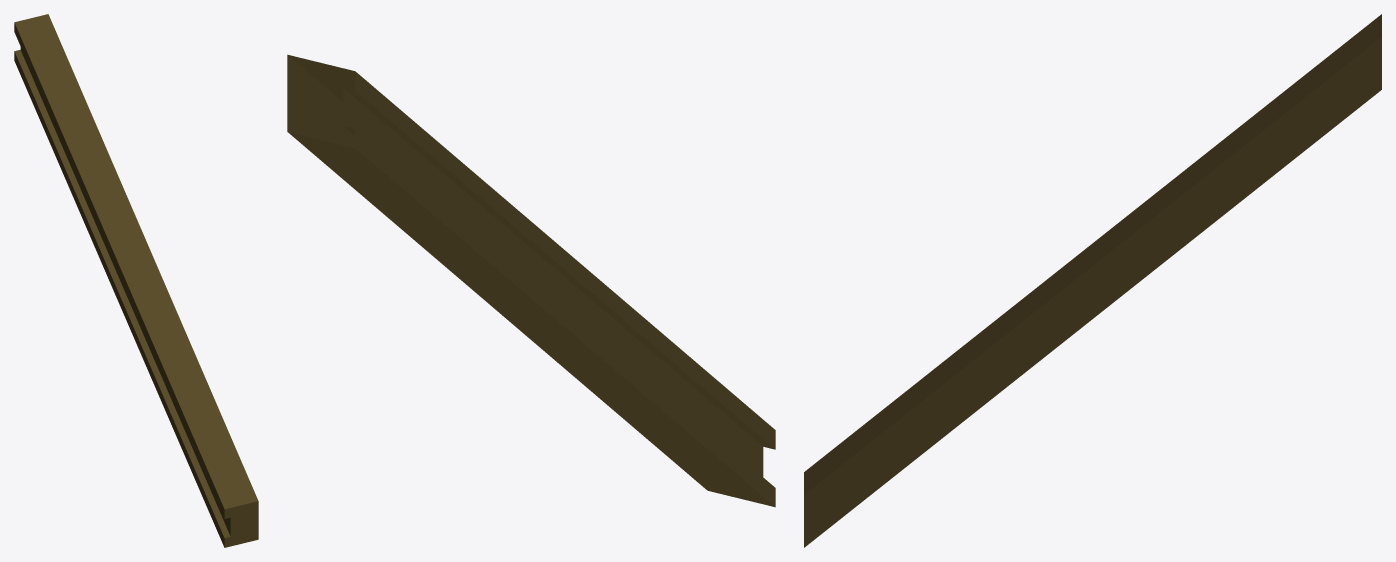
The model's file is WoodHandRail.fbx.
3 renders of one model, left to right at view 1: azimuth 30°, elevation 25°; view 2: azimuth 150°, elevation 25°; view 3: azimuth 270°, elevation 25°, orthographic. The views are drawn at different scales.
Parts seen in each view (by area): view 1: Stairs.001; view 2: Stairs.001; view 3: Stairs.001.
Boxes of the visible parts, <box> form: Stairs.001: <box>14,14,258,547</box>; Stairs.001: <box>287,54,775,507</box>; Stairs.001: <box>804,14,1381,547</box>.
Bounding box in the file's own units: 24.64 × 257 × 264.
